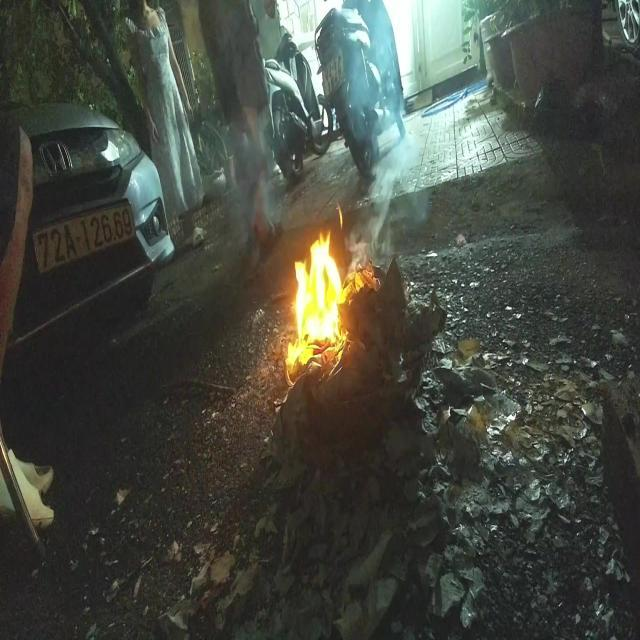Fire: (286, 236, 377, 381)
Smoke: (346, 123, 422, 257), (223, 116, 282, 245)
